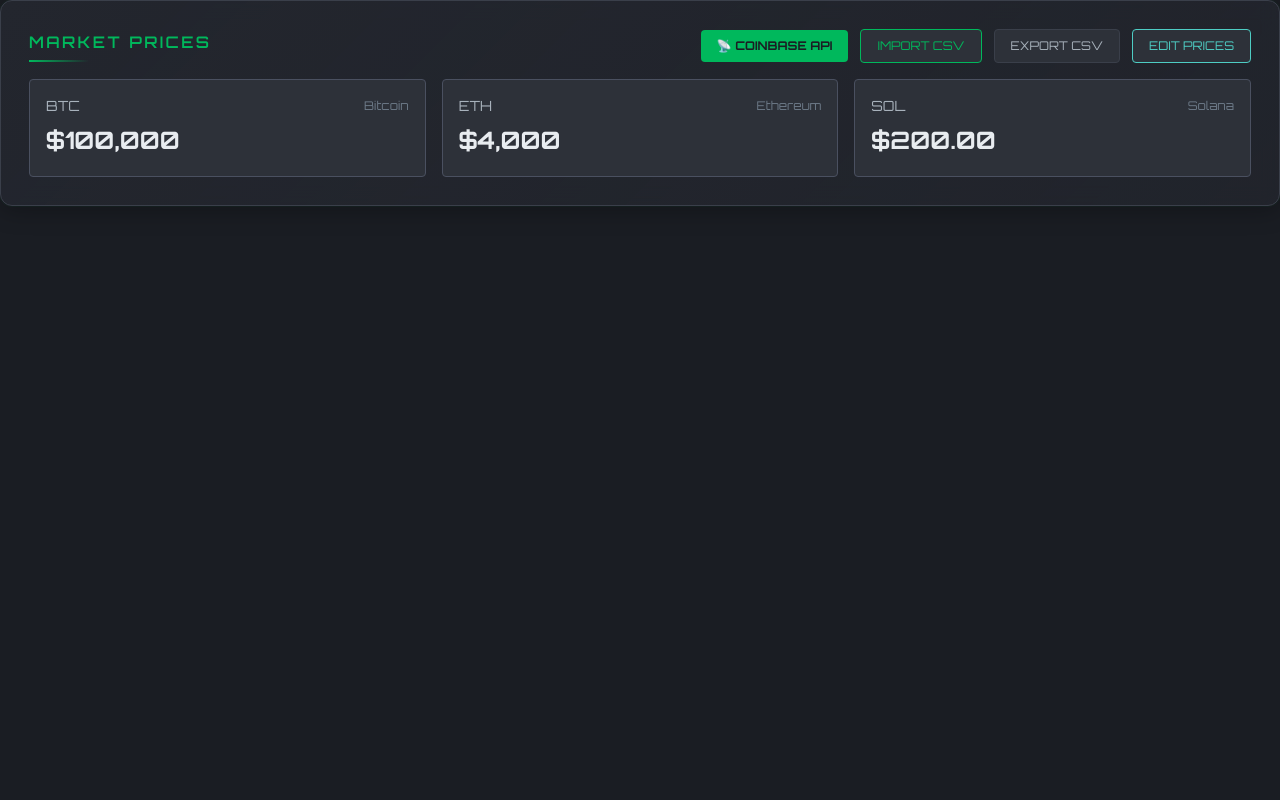
Scenario: AssetPricePanel › modal interactions › should open CSV import modal when import button clicked
What coordinates should you click on to do the following:
click the button "IMPORT CSV"
I would click on:
 (921, 46)
Its box is x1=860 y1=29 x2=982 y2=63.
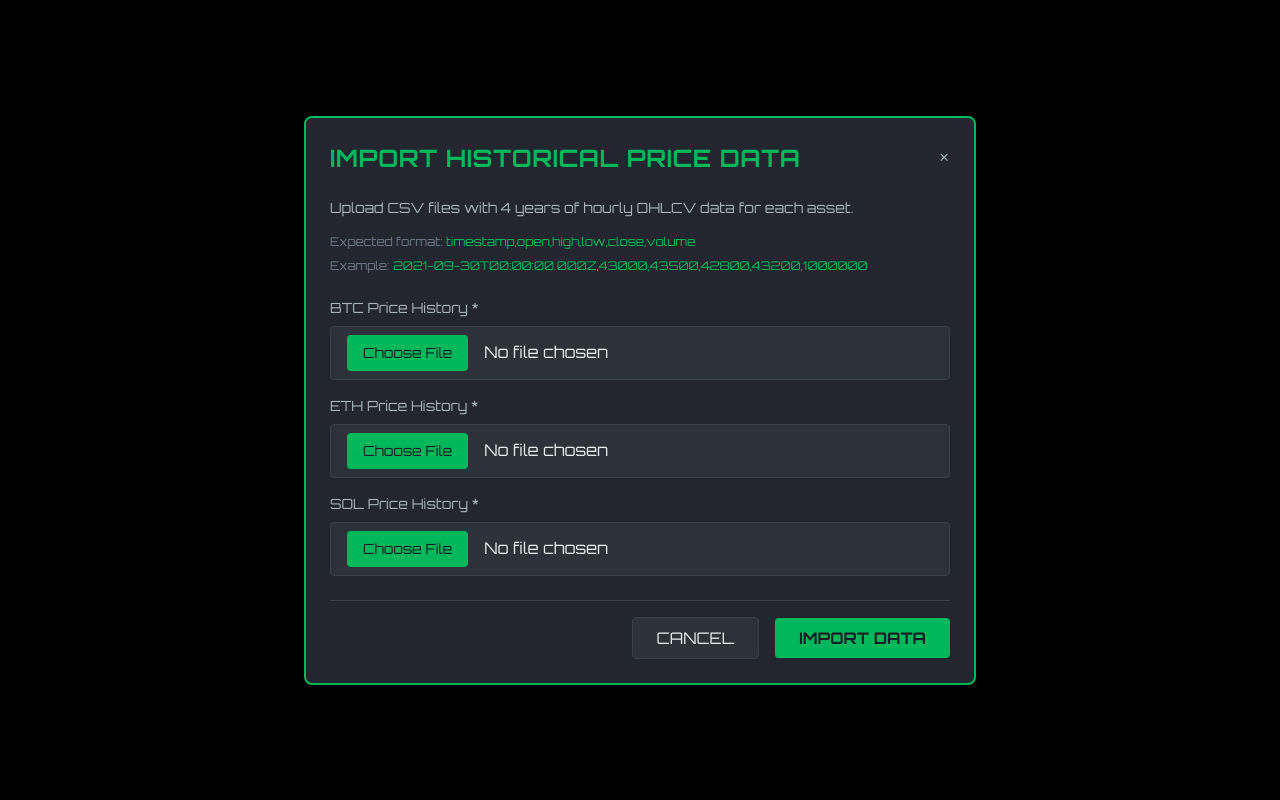
Now the heading "IMPORT HISTORICAL PRICE DATA" is shown, box x1=330 y1=142 x2=800 y2=174
Now the text "BTC Price History *" is shown, box x1=330 y1=298 x2=479 y2=316
